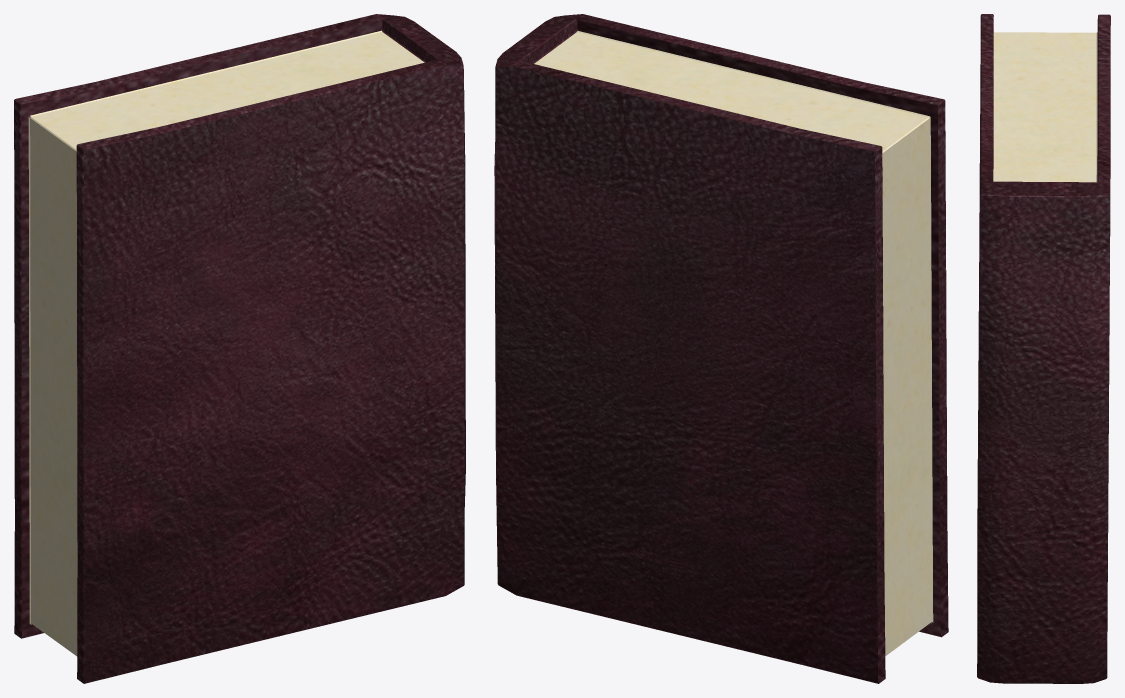
Rendered from bigBookDarkRed.fbx.
3 renders of one model, left to right at view 1: azimuth 30°, elevation 25°; view 2: azimuth 150°, elevation 25°; view 3: azimuth 270°, elevation 25°, orthographic. The views are drawn at different scales.
Visible parts, largest first — view 1: book4; view 2: book4; view 3: book4.
Boxes of the visible parts, x1,y1,x2,y2 form: book4: (14, 14, 465, 683); book4: (494, 14, 948, 683); book4: (977, 14, 1110, 683).
Size of the model in its own units: 24.01 by 31.29 by 7.61.
Materials: 1 (1 with a texture image).
